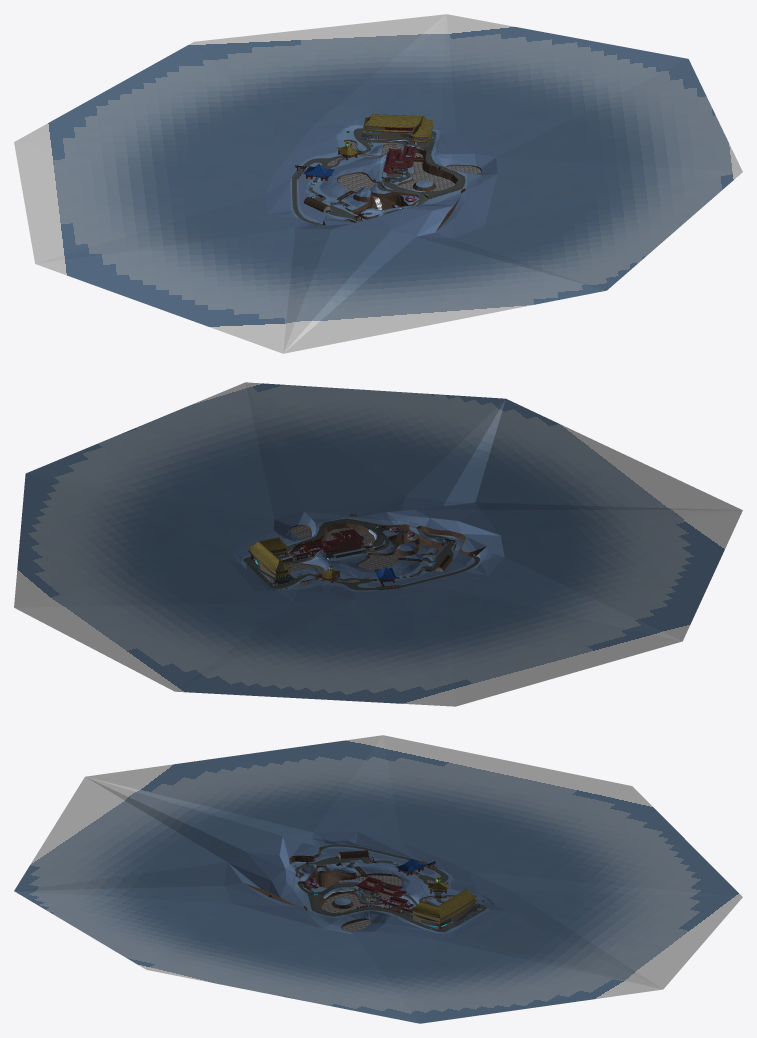
The picture shows the model from 3 angles, top to bottom: view 1: azimuth 30°, elevation 25°; view 2: azimuth 150°, elevation 25°; view 3: azimuth 270°, elevation 25°; orthographic projection. The views are drawn at different scales.
Visible parts, largest first — view 1: course_model-SKP--OB___OB, course_model-SKP--gr_OBroad___gr_OBroad, course_model-SKP--gr_snow___gr_snow, course_model-SKP--gr_OBoverlay___gr_OBoverlay, course_model-SKP--wl_mtn___wl_mtn, course_model-SKP--water___water, course_model-SKP--roof_ylw___roof_ylw, course_model-SKP--gr_offroad___gr_offroad, course_model-SKP--roof_red___roof_red, course_model-SKP--wl_redbrick___wl_redbrick; view 2: course_model-SKP--OB___OB, course_model-SKP--gr_OBroad___gr_OBroad, course_model-SKP--gr_snow___gr_snow, course_model-SKP--gr_OBoverlay___gr_OBoverlay, course_model-SKP--wl_mtn___wl_mtn, course_model-SKP--water___water, course_model-SKP--gr_offroad___gr_offroad, course_model-SKP--roof_ylw___roof_ylw, course_model-SKP--roof_red___roof_red, course_model-SKP--wl_redbrick___wl_redbrick, course_model-SKP--_2____2; view 3: course_model-SKP--OB___OB, course_model-SKP--gr_OBroad___gr_OBroad, course_model-SKP--gr_snow___gr_snow, course_model-SKP--gr_OBoverlay___gr_OBoverlay, course_model-SKP--wl_mtn___wl_mtn, course_model-SKP--roof_ylw___roof_ylw, course_model-SKP--water___water, course_model-SKP--gr_offroad___gr_offroad, course_model-SKP--roof_red___roof_red, course_model-SKP--wl_redbrick___wl_redbrick, course_model-SKP--_2____2.
Boxes of the visible parts, x1,y1,x2,y2 form: course_model-SKP--OB___OB: (14, 14, 742, 353); course_model-SKP--gr_OBroad___gr_OBroad: (264, 118, 497, 238); course_model-SKP--gr_snow___gr_snow: (291, 120, 465, 224); course_model-SKP--gr_OBoverlay___gr_OBoverlay: (288, 125, 468, 224); course_model-SKP--wl_mtn___wl_mtn: (304, 134, 481, 231); course_model-SKP--water___water: (327, 141, 480, 199); course_model-SKP--roof_ylw___roof_ylw: (336, 114, 433, 155); course_model-SKP--gr_offroad___gr_offroad: (308, 130, 465, 222); course_model-SKP--roof_red___roof_red: (383, 146, 416, 173); course_model-SKP--wl_redbrick___wl_redbrick: (366, 126, 428, 179); course_model-SKP--OB___OB: (14, 382, 742, 706); course_model-SKP--gr_OBroad___gr_OBroad: (228, 496, 504, 601); course_model-SKP--gr_snow___gr_snow: (243, 518, 480, 590); course_model-SKP--gr_OBoverlay___gr_OBoverlay: (239, 516, 483, 591); course_model-SKP--wl_mtn___wl_mtn: (277, 523, 486, 585); course_model-SKP--water___water: (287, 526, 399, 586); course_model-SKP--gr_offroad___gr_offroad: (253, 523, 463, 589); course_model-SKP--roof_ylw___roof_ylw: (248, 537, 341, 578); course_model-SKP--roof_red___roof_red: (290, 529, 364, 555); course_model-SKP--wl_redbrick___wl_redbrick: (250, 534, 361, 580); course_model-SKP--_2____2: (250, 514, 455, 589); course_model-SKP--OB___OB: (14, 735, 742, 1023); course_model-SKP--gr_OBroad___gr_OBroad: (224, 832, 508, 939); course_model-SKP--gr_snow___gr_snow: (295, 844, 487, 932); course_model-SKP--gr_OBoverlay___gr_OBoverlay: (293, 841, 493, 933); course_model-SKP--wl_mtn___wl_mtn: (244, 849, 455, 928); course_model-SKP--roof_ylw___roof_ylw: (410, 882, 477, 922); course_model-SKP--water___water: (321, 875, 453, 931); course_model-SKP--gr_offroad___gr_offroad: (290, 856, 486, 928); course_model-SKP--roof_red___roof_red: (354, 876, 413, 911); course_model-SKP--wl_redbrick___wl_redbrick: (364, 882, 474, 923); course_model-SKP--_2____2: (304, 857, 473, 929).
Size of what is drawn, in the model's own units: 377440 by 35473 by 370012.
Materials: 41 (41 with a texture image).
